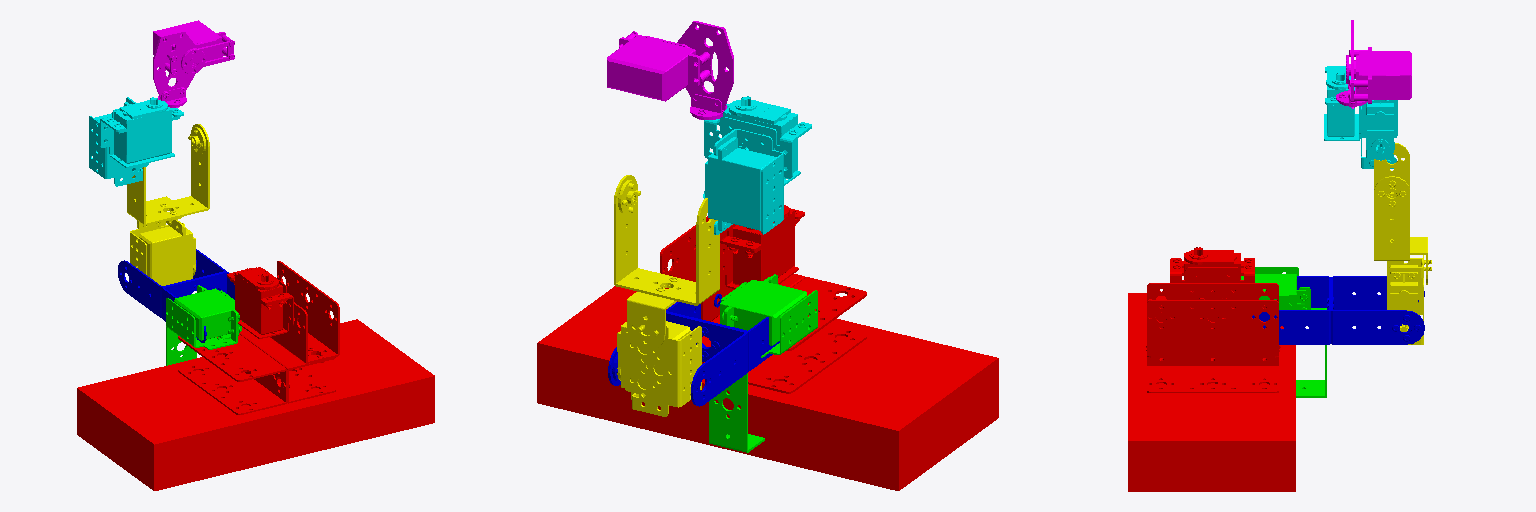
The robot description file, URDF, robot "6DoF":
<robot name="6DoF" version="1.0">
  <joint name="Joint1" type="revolute">
    <limit lower="0.00000000" upper="3.14199996" effort="87" velocity="2.3925"/>
    <origin rpy="0.00000000 0.00000000 -1.57079637" xyz="0.00000000 0.00000000 0.1324"/>
    <parent link="base_link"/>
    <child link="servo1_servo2_link"/>
    <axis xyz="0.00000000 0.00000000 1.00000000"/>
  </joint>

  <joint name="Joint2" type="revolute">
    <limit lower="0.00000000" upper="3.14000010" effort="87" velocity="2.3925"/>
    <origin rpy="-1.57079637 0.00000000 0.00000000" xyz="0.00000000 0.00000000 0.012"/>
    <parent link="servo1_servo2_link"/>
    <child link="servo2_servo3_link"/>
    <axis xyz="0.00000000 0.00000000 1.00000000"/>
  </joint>

  <joint name="Joint3" type="revolute">
    <limit lower="0.00000000" upper="3.14000010" effort="87" velocity="2.3925"/>
    <origin rpy="3.14159265 0.00000000 3.14159257" xyz="-0.104538 0.00000000 -0.00000006"/>
    <parent link="servo2_servo3_link"/>
    <child link="servo3_servo4_link"/>
    <axis xyz="0.00000000 0.00000000 1.00000000"/>
  </joint>
  
  <joint name="Joint4" type="revolute">
    <limit lower="0.00000000" upper="3.14000010" effort="87" velocity="2.3925"/>
    <origin rpy="3.14159257 -0.00000012 0.00000000" xyz="-0.008356 -0.101547 0.00001584"/>
    <parent link="servo3_servo4_link"/>
    <child link="servo4_servo5_link"/>
    <axis xyz="0.00000000 0.00000000 1.00000000"/>
  </joint>

  <joint name="Joint5" type="revolute">
    <limit lower="0.00000000" upper="3.14000010" effort="87" velocity="2.3925"/>
    <origin rpy="-1.57079628 -0.00000009 0.00000009" xyz="-0.028738 0.047654 0.00000208"/>
    <parent link="servo4_servo5_link"/>
    <child link="servo5_servo6_link"/>
    <axis xyz="0.00000000 0.00000000 1.00000000"/>
  </joint>
  
  

  <joint name="left_hand_finger_joint" type="prismatic">
        <parent link="servo5_servo6_link" />
        <child link="left_finger_link" />
        <origin rpy="1.57079637 0.00000000 -3.14159257" xyz="0.000101 -0.000827 0.057582" />
        <axis xyz="0 0 1" />
        <limit effort="20" lower="0.0" upper="0.014" velocity="0.2" />
  </joint>
  <joint name="right_hand_finger_joint" type="prismatic">
        <parent link="servo5_servo6_link" />
        <child link="right_finger_link" />
        <origin rpy="1.57079637 0.00000000 -3.14159257" xyz="0.000101 -0.000827 0.057582" />
        <axis xyz="0 0 -1" />
        <limit effort="20" lower="0.0" upper="0.014" velocity="0.2" />
        <mimic joint="left_hand_finger_joint" />
  </joint>
  
  
  <link name="base_link">
    <collision name="base_collision">
      <origin rpy="1.57079625 -0.00000000 -3.14159250" xyz="0.029 -0.036 0.06715160"/>
      <geometry>
        <mesh filename="package://moveit_resources_dragon_description/meshes/stl/base.stl" scale="0.001 0.001 0.001"/>
      </geometry>
    </collision>
    <visual name="base">
      <origin rpy="1.57079633 -0.00000000 -3.14159257" xyz="0.0285 -0.0355 0.06715160"/>
      <geometry>
        <mesh filename="package://moveit_resources_dragon_description/meshes/stl/base.stl" scale="0.001 0.001 0.001"/>
      </geometry>
      <material name="Red">
        <color rgba="1 0 0 1"/>
      </material>
    </visual>
  </link> 
  
  <link name="servo1_servo2_link">
    <collision name="Joint1_collision">
      <origin rpy="0.00000000 0.00000000 -1.57079625" xyz="-0.00030 0.0074 -0.000062"/>
      <geometry>
        <mesh filename="package://moveit_resources_dragon_description/meshes/stl/joint1.stl" scale="0.001 0.001 0.001"/>
      </geometry>
    </collision>
    <visual name="Joint1">
      <origin rpy="0.00000000 0.00000000 -1.57079625" xyz="-0.00030 0.0074 -0.000062"/>
      <geometry>
        <mesh filename="package://moveit_resources_dragon_description/meshes/stl/joint1.stl" scale="0.001 0.001 0.001"/>
      </geometry>
      <material name="Green">
        <color rgba="0 1 0 1"/>
      </material>
    </visual>
  </link>
  
  
  
  <link name="servo2_servo3_link">
    <collision name="joint2_collision">
      <origin rpy="1.57079645 0.00000004 -1.57079637" xyz="-0.001 0.000 0.021"/>
      <geometry>
        <mesh filename="package://moveit_resources_dragon_description/meshes/stl/joint2.stl" scale="0.001 0.001 0.001"/>
      </geometry>
    </collision>
    <visual name="joint2">
      <origin rpy="1.57079645 0.00000004 -1.57079637" xyz="-0.001 0.000 0.021"/>
      <geometry>
        <mesh filename="package://moveit_resources_dragon_description/meshes/stl/joint2.stl" scale="0.001 0.001 0.001"/>
      </geometry>
      <material name="Blue">
        <color rgba="0 0 1 1"/>
      </material>
    </visual>
  </link>
  
  
  
  <link name="servo3_servo4_link">
    <collision name="Joint3_collision">
      <origin rpy="3.14159249 0.00000004 1.57079620" xyz="-0.000421 0.000 -0.025"/>
      <geometry>
        <mesh filename="package://moveit_resources_dragon_description/meshes/stl/joint3.stl" scale="0.001 0.001 0.001"/>
      </geometry>
    </collision>
    <visual name="Joint3">
      <origin rpy="3.14159249 0.00000004 1.57079620" xyz="-0.000421 0.000 -0.025"/>
      <geometry>
        <mesh filename="package://moveit_resources_dragon_description/meshes/stl/joint3.stl" scale="0.001 0.001 0.001"/>
      </geometry>
      <material name="Yellow">
        <color rgba="1 1 0 1"/>
      </material>
    </visual>
  </link>
  
  
  <link name="servo4_servo5_link">
    <collision name="Joint4_collision">
      <origin rpy="-0.00000009 0.00000000 -3.14159256" xyz="0.00 0.01 -0.021"/>
      <geometry>
        <mesh filename="package://moveit_resources_dragon_description/meshes/stl/joint4.stl" scale="0.001 0.001 0.001"/>
      </geometry>
    </collision>
    <visual name="Joint4">
      <origin rpy="-0.00000009 0.00000000 -3.14159257" xyz="0.000 0.01 -0.021"/>
      <geometry>
        <mesh filename="package://moveit_resources_dragon_description/meshes/stl/joint4.stl" scale="0.001 0.001 0.001"/>
      </geometry>
      <material name="Cyan">
        <color rgba="0 1 1 1"/>
      </material>
    </visual>
  </link>


  <link name="servo5_servo6_link">
    <collision name="Gripper_palm_collision">
      <origin rpy="1.57079637 0.00000000 -3.14159257" xyz="0.0018 -0.01 0.000336"/>
      <geometry>
        <mesh filename="package://moveit_resources_dragon_description/meshes/stl/gripper_palm.stl" scale="0.001 0.001 0.001"/>
      </geometry>
    </collision>
    <visual name="Gripper_palm">
      <origin rpy="1.57079637 0.00000000 -3.14159257" xyz="0.0018 -0.01 0.000336"/>
      <geometry>
        <mesh filename="package://moveit_resources_dragon_description/meshes/stl/gripper_palm.stl" scale="0.001 0.001 0.001"/>
      </geometry>
      <material name="Magenta">
        <color rgba="1 0 1 1"/>
      </material>
    </visual>
  </link>


   <link name="left_finger_link">
    <collision name="left_finger_collision">
      <origin rpy="-1.57079633 1.57079626 0.00000000" xyz="0.003360 -0.001577 0.007136"/>
      <geometry>
        <mesh filename="package://moveit_resources_dragon_description/meshes/stl/left_finger.stl" scale="0.001 0.001 0.001"/>
      </geometry>
    </collision>
    
    <visual name="left_finger">
      <origin rpy="-1.57079633 1.57079626 0.00000000" xyz="0.003360 -0.001577 0.007136"/>
      <geometry>
        <mesh filename="package://moveit_resources_dragon_description/meshes/stl/left_finger.stl" scale="0.001 0.001 0.001"/>
      </geometry>
      <material name="Green">
        <color rgba="0 1 0 1"/>
      </material>
    </visual>
   </link>

   <link name="right_finger_link">
    <collision name="right_finger_collision">
      <origin rpy="-1.57079633 1.57079626 0.00000000" xyz="0.003360 -0.001585 -0.006823"/>
      <geometry>
        <mesh filename="package://moveit_resources_dragon_description/meshes/stl/right_finger.stl" scale="0.001 0.001 0.001"/>
      </geometry>
    </collision>
    <visual name="right_finger">
      <origin rpy="1.83292169 1.57079616 -2.87946729" xyz="0.003360 -0.001585 -0.006823"/>
      <geometry>
        <mesh filename="package://moveit_resources_dragon_description/meshes/stl/right_finger.stl" scale="0.001 0.001 0.001"/>
      </geometry>
      <material name="Green">
        <color rgba="0 1 0 1"/>
      </material>
    </visual>
  </link>
</robot>


--- Render facts (derived) ---
3 views of the same robot in one strip: view 1: azimuth 30°, elevation 25°; view 2: azimuth 150°, elevation 25°; view 3: azimuth 270°, elevation 25° (orthographic).
Model 6DoF with 8 links and 7 joints (5 revolute, 2 prismatic), rooted at base_link, posed all joints at 0.
Visible links, largest first — view 1: base_link, servo3_servo4_link, servo4_servo5_link, servo5_servo6_link, servo1_servo2_link, servo2_servo3_link; view 2: base_link, servo3_servo4_link, servo4_servo5_link, servo5_servo6_link, servo1_servo2_link, servo2_servo3_link; view 3: base_link, servo2_servo3_link, servo3_servo4_link, servo4_servo5_link, servo5_servo6_link, servo1_servo2_link.
Boxes of the visible links, x1,y1,x2,y2 form: base_link: (77,261,434,490); servo3_servo4_link: (127,124,209,285); servo4_servo5_link: (89,97,183,186); servo5_servo6_link: (153,20,234,107); servo1_servo2_link: (166,285,242,365); servo2_servo3_link: (118,249,234,342); base_link: (537,205,998,490); servo3_servo4_link: (614,175,719,416); servo4_servo5_link: (703,96,811,234); servo5_servo6_link: (607,21,733,119); servo1_servo2_link: (709,274,817,452); servo2_servo3_link: (608,294,779,406); base_link: (1128,247,1295,491); servo2_servo3_link: (1252,276,1424,344); servo3_servo4_link: (1374,143,1431,344); servo4_servo5_link: (1324,66,1397,168); servo5_servo6_link: (1336,20,1411,108); servo1_servo2_link: (1241,267,1326,397).
Bounding box of the posed robot: 0.238 × 0.2057 × 0.285 m (x, y, z).
Meshes: 8 distinct files referenced, 6 mesh visuals loaded (6 binary STL); not drawn: 2 (reference not matched to a file when rendering).